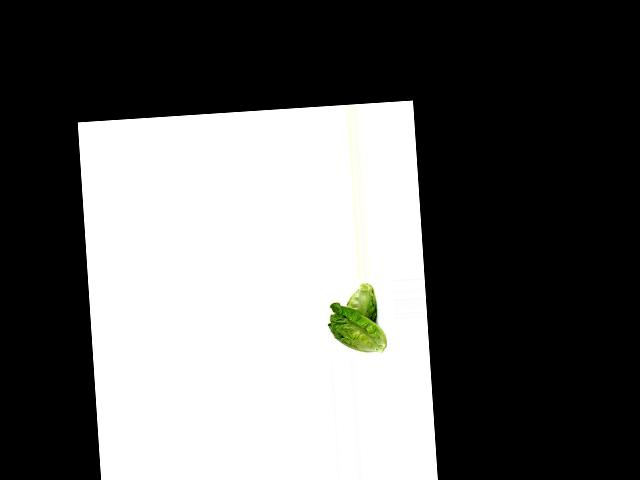lettuce: (343, 281, 380, 324)
